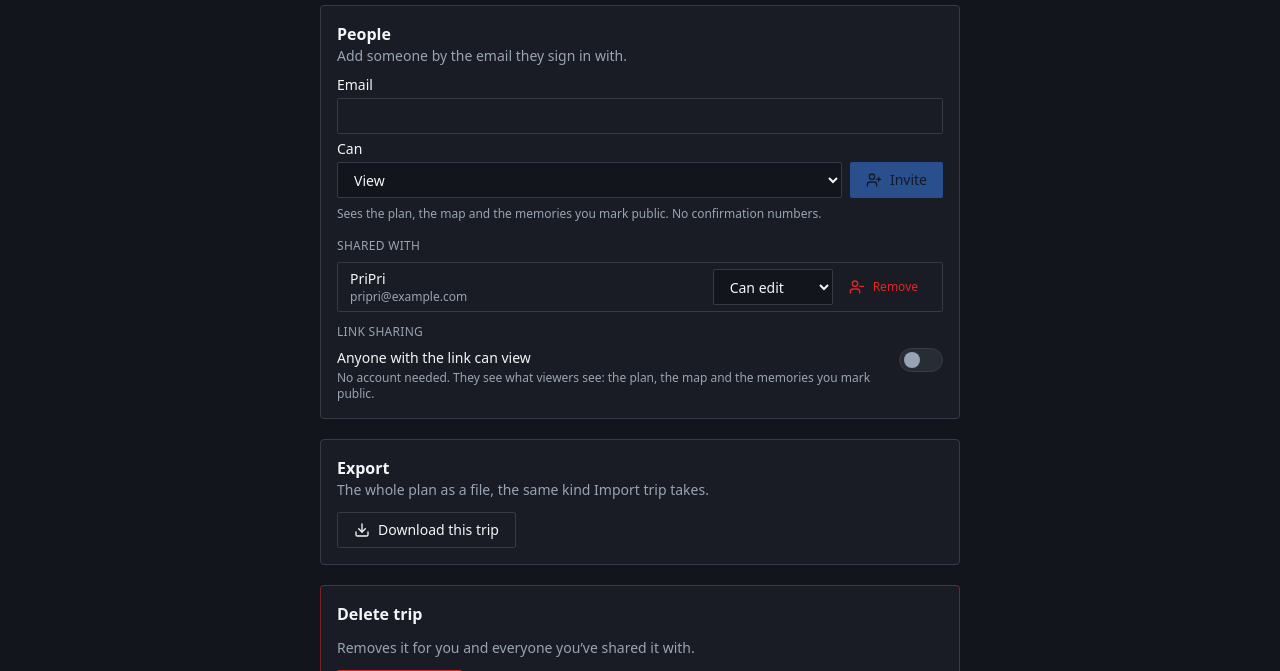
TripSettingsPage (Run stage 29) › the secret link: on, copy, a new link, off (Run stage 31)
(page scrolled)
Click the switch named "Anyone with the link can view": (921, 360) [899, 348, 943, 372]
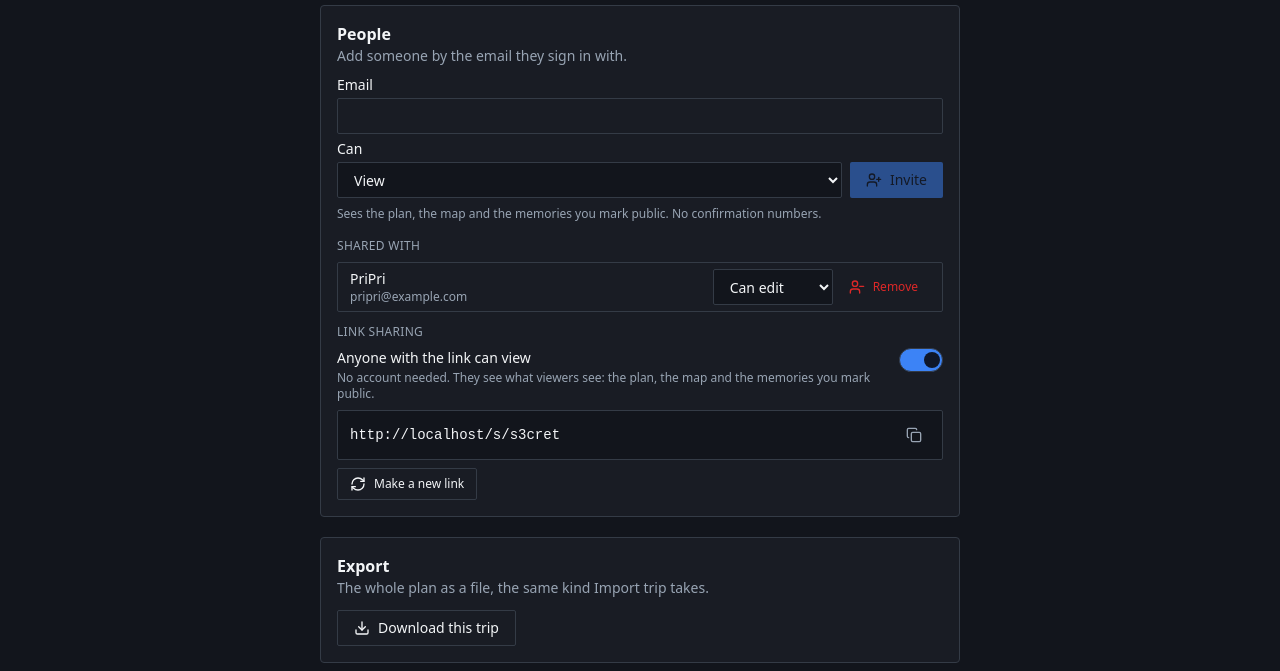
Check: the button named "Copy link" is shown, box [898, 419, 930, 451]
Note: A new link, after saying what happens to the old one.
Click the button "Make a new link": (407, 484) [337, 468, 477, 500]
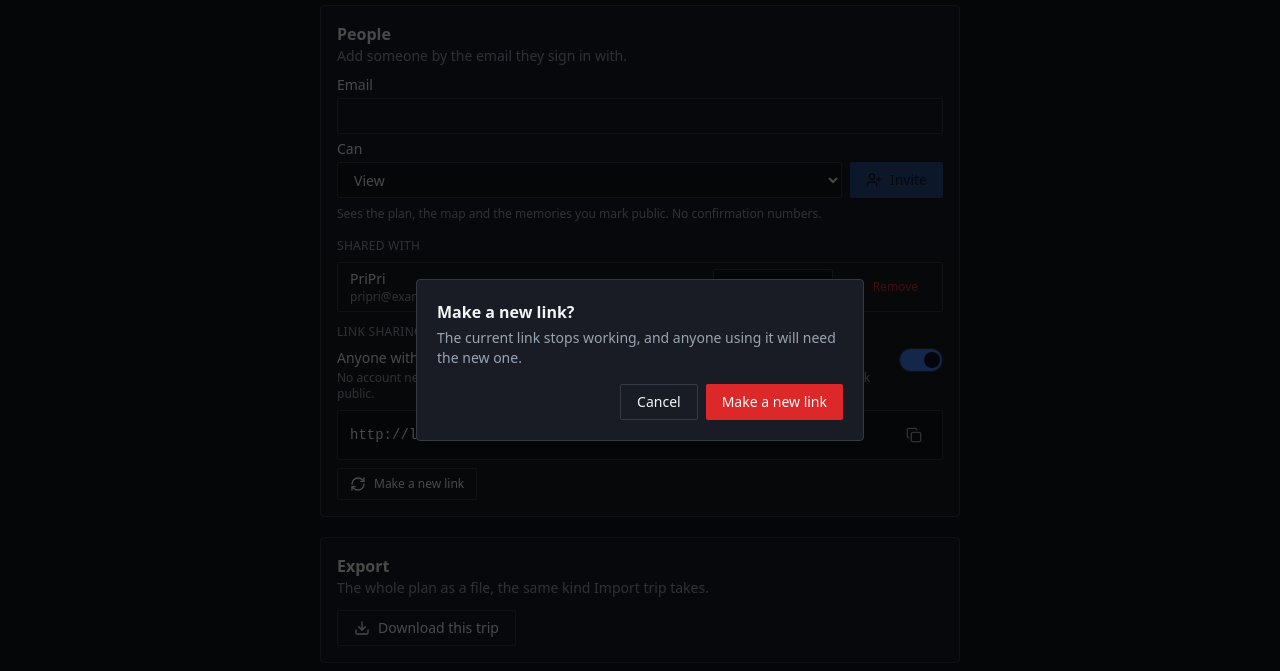
Check: the dialog "Make a new link?" shows "The current link stops working", box [437, 328, 836, 367]
Click the button "Make a new link": (774, 402) [706, 384, 843, 420]
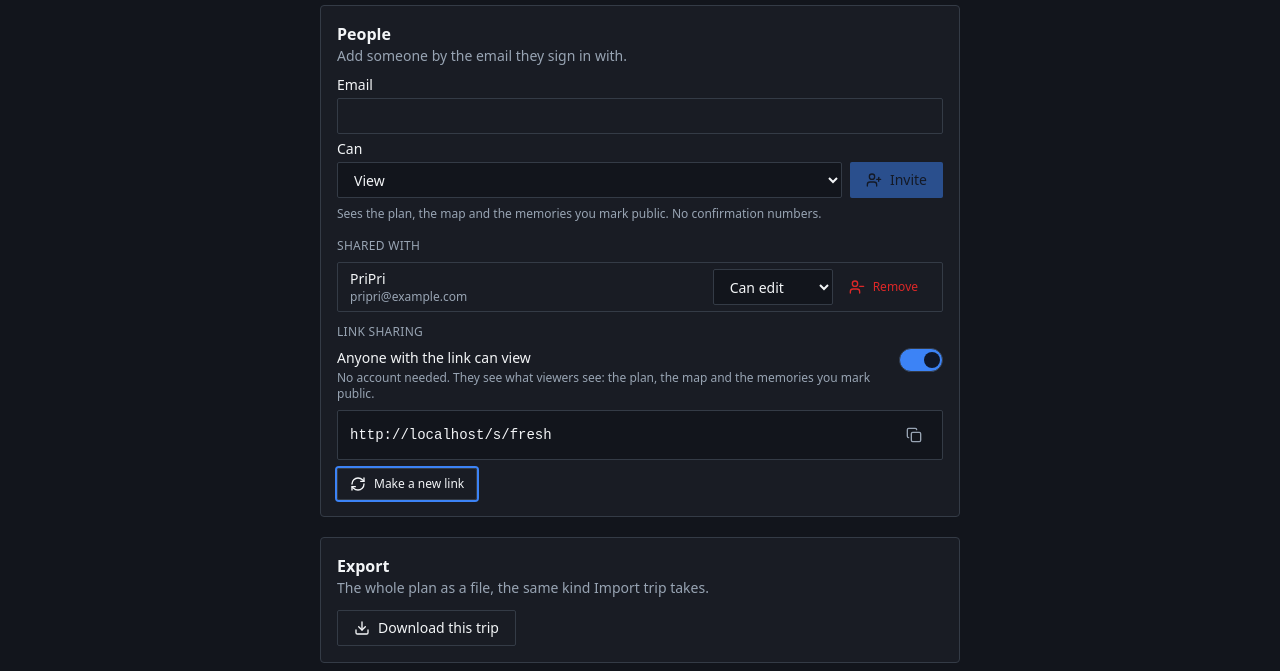
Note: Off, also confirmed.
Click the switch: (921, 360) [899, 348, 943, 372]
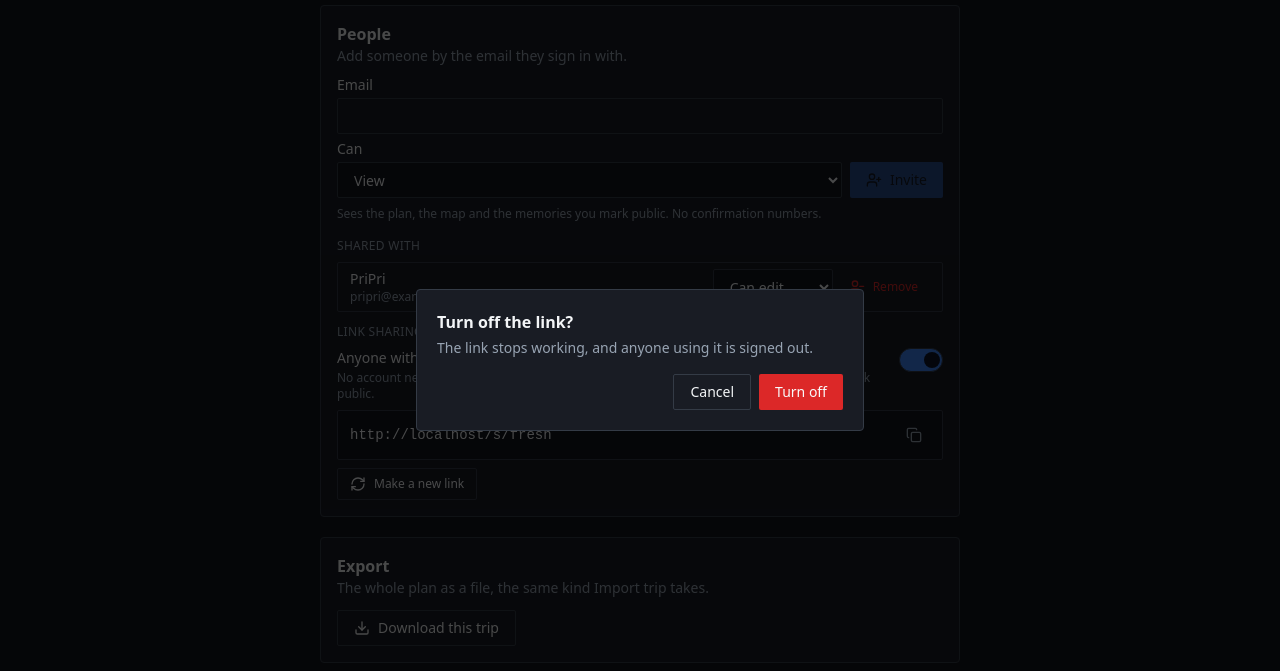
Click the button "Turn off": (801, 392) [759, 374, 843, 410]
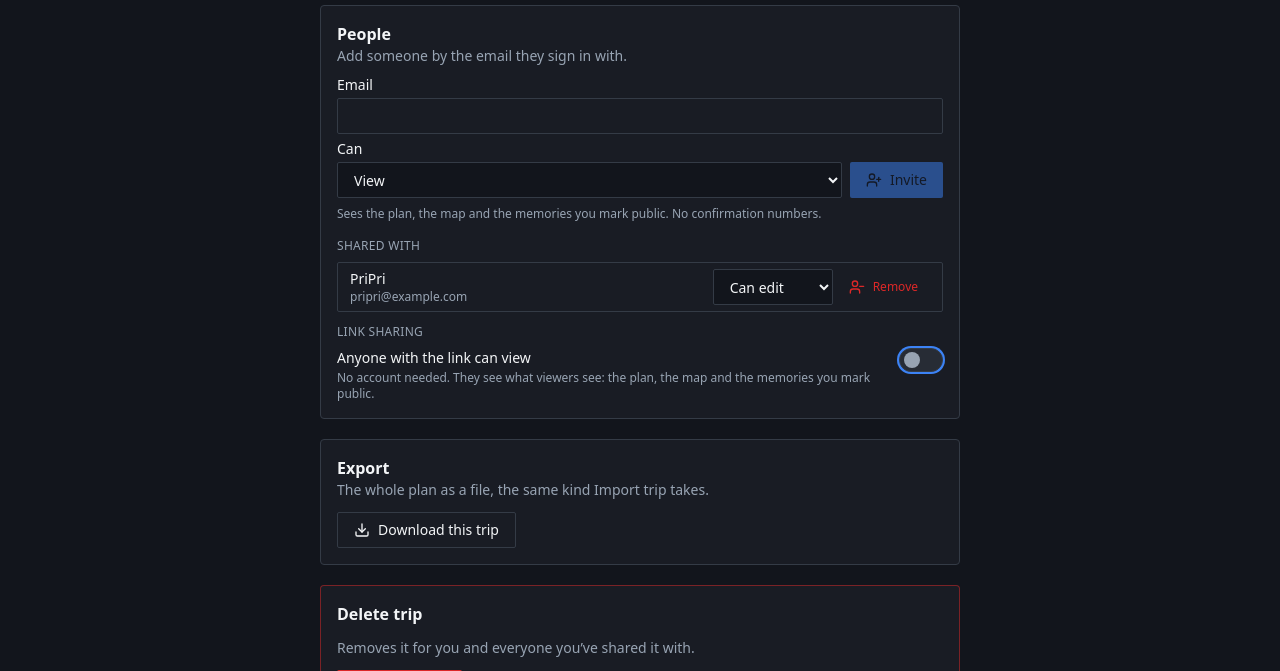
Check: the text "/s/" is gone
